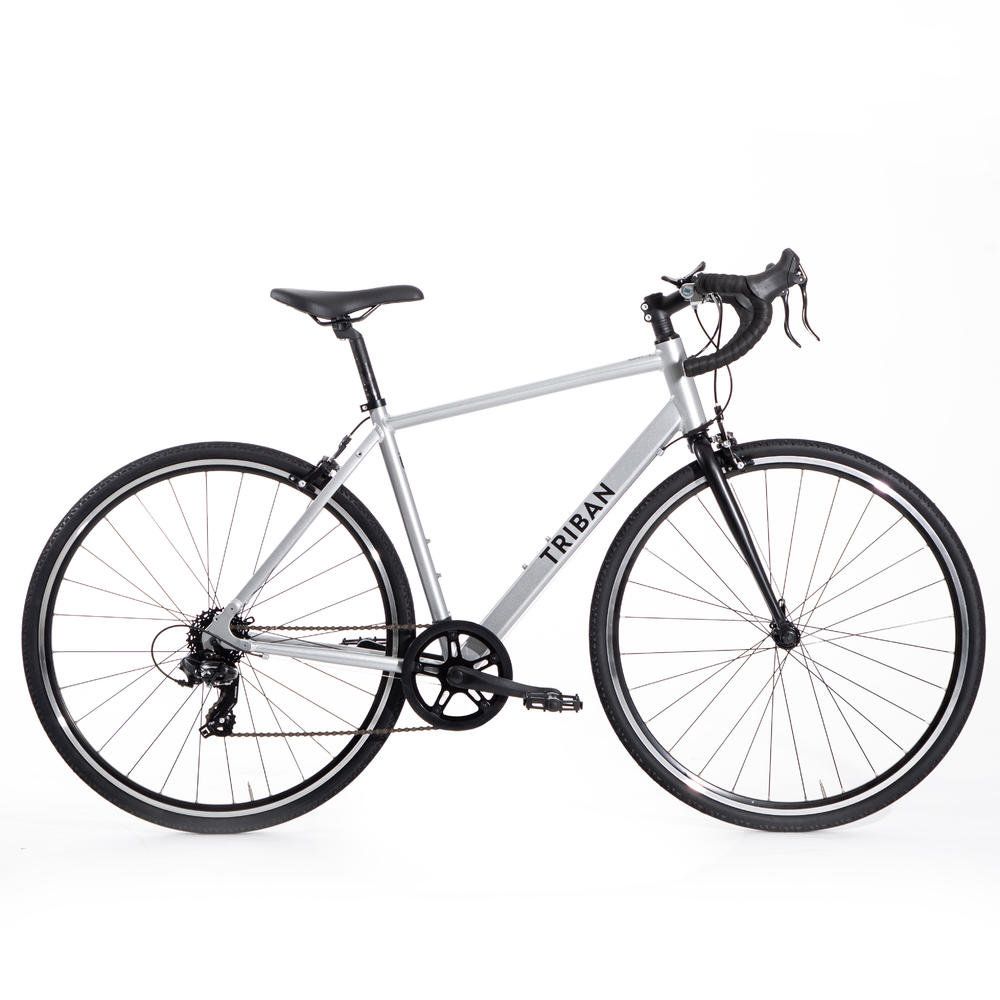RoadBike: (3, 252, 1000, 853)
